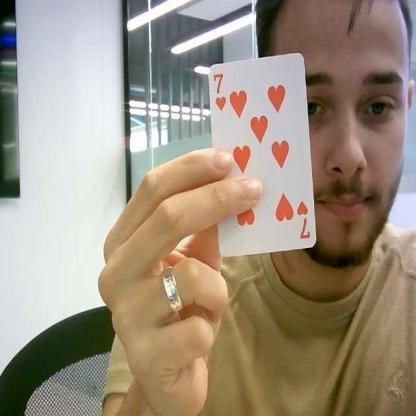7H: (296, 197, 310, 242), (212, 72, 227, 111)
